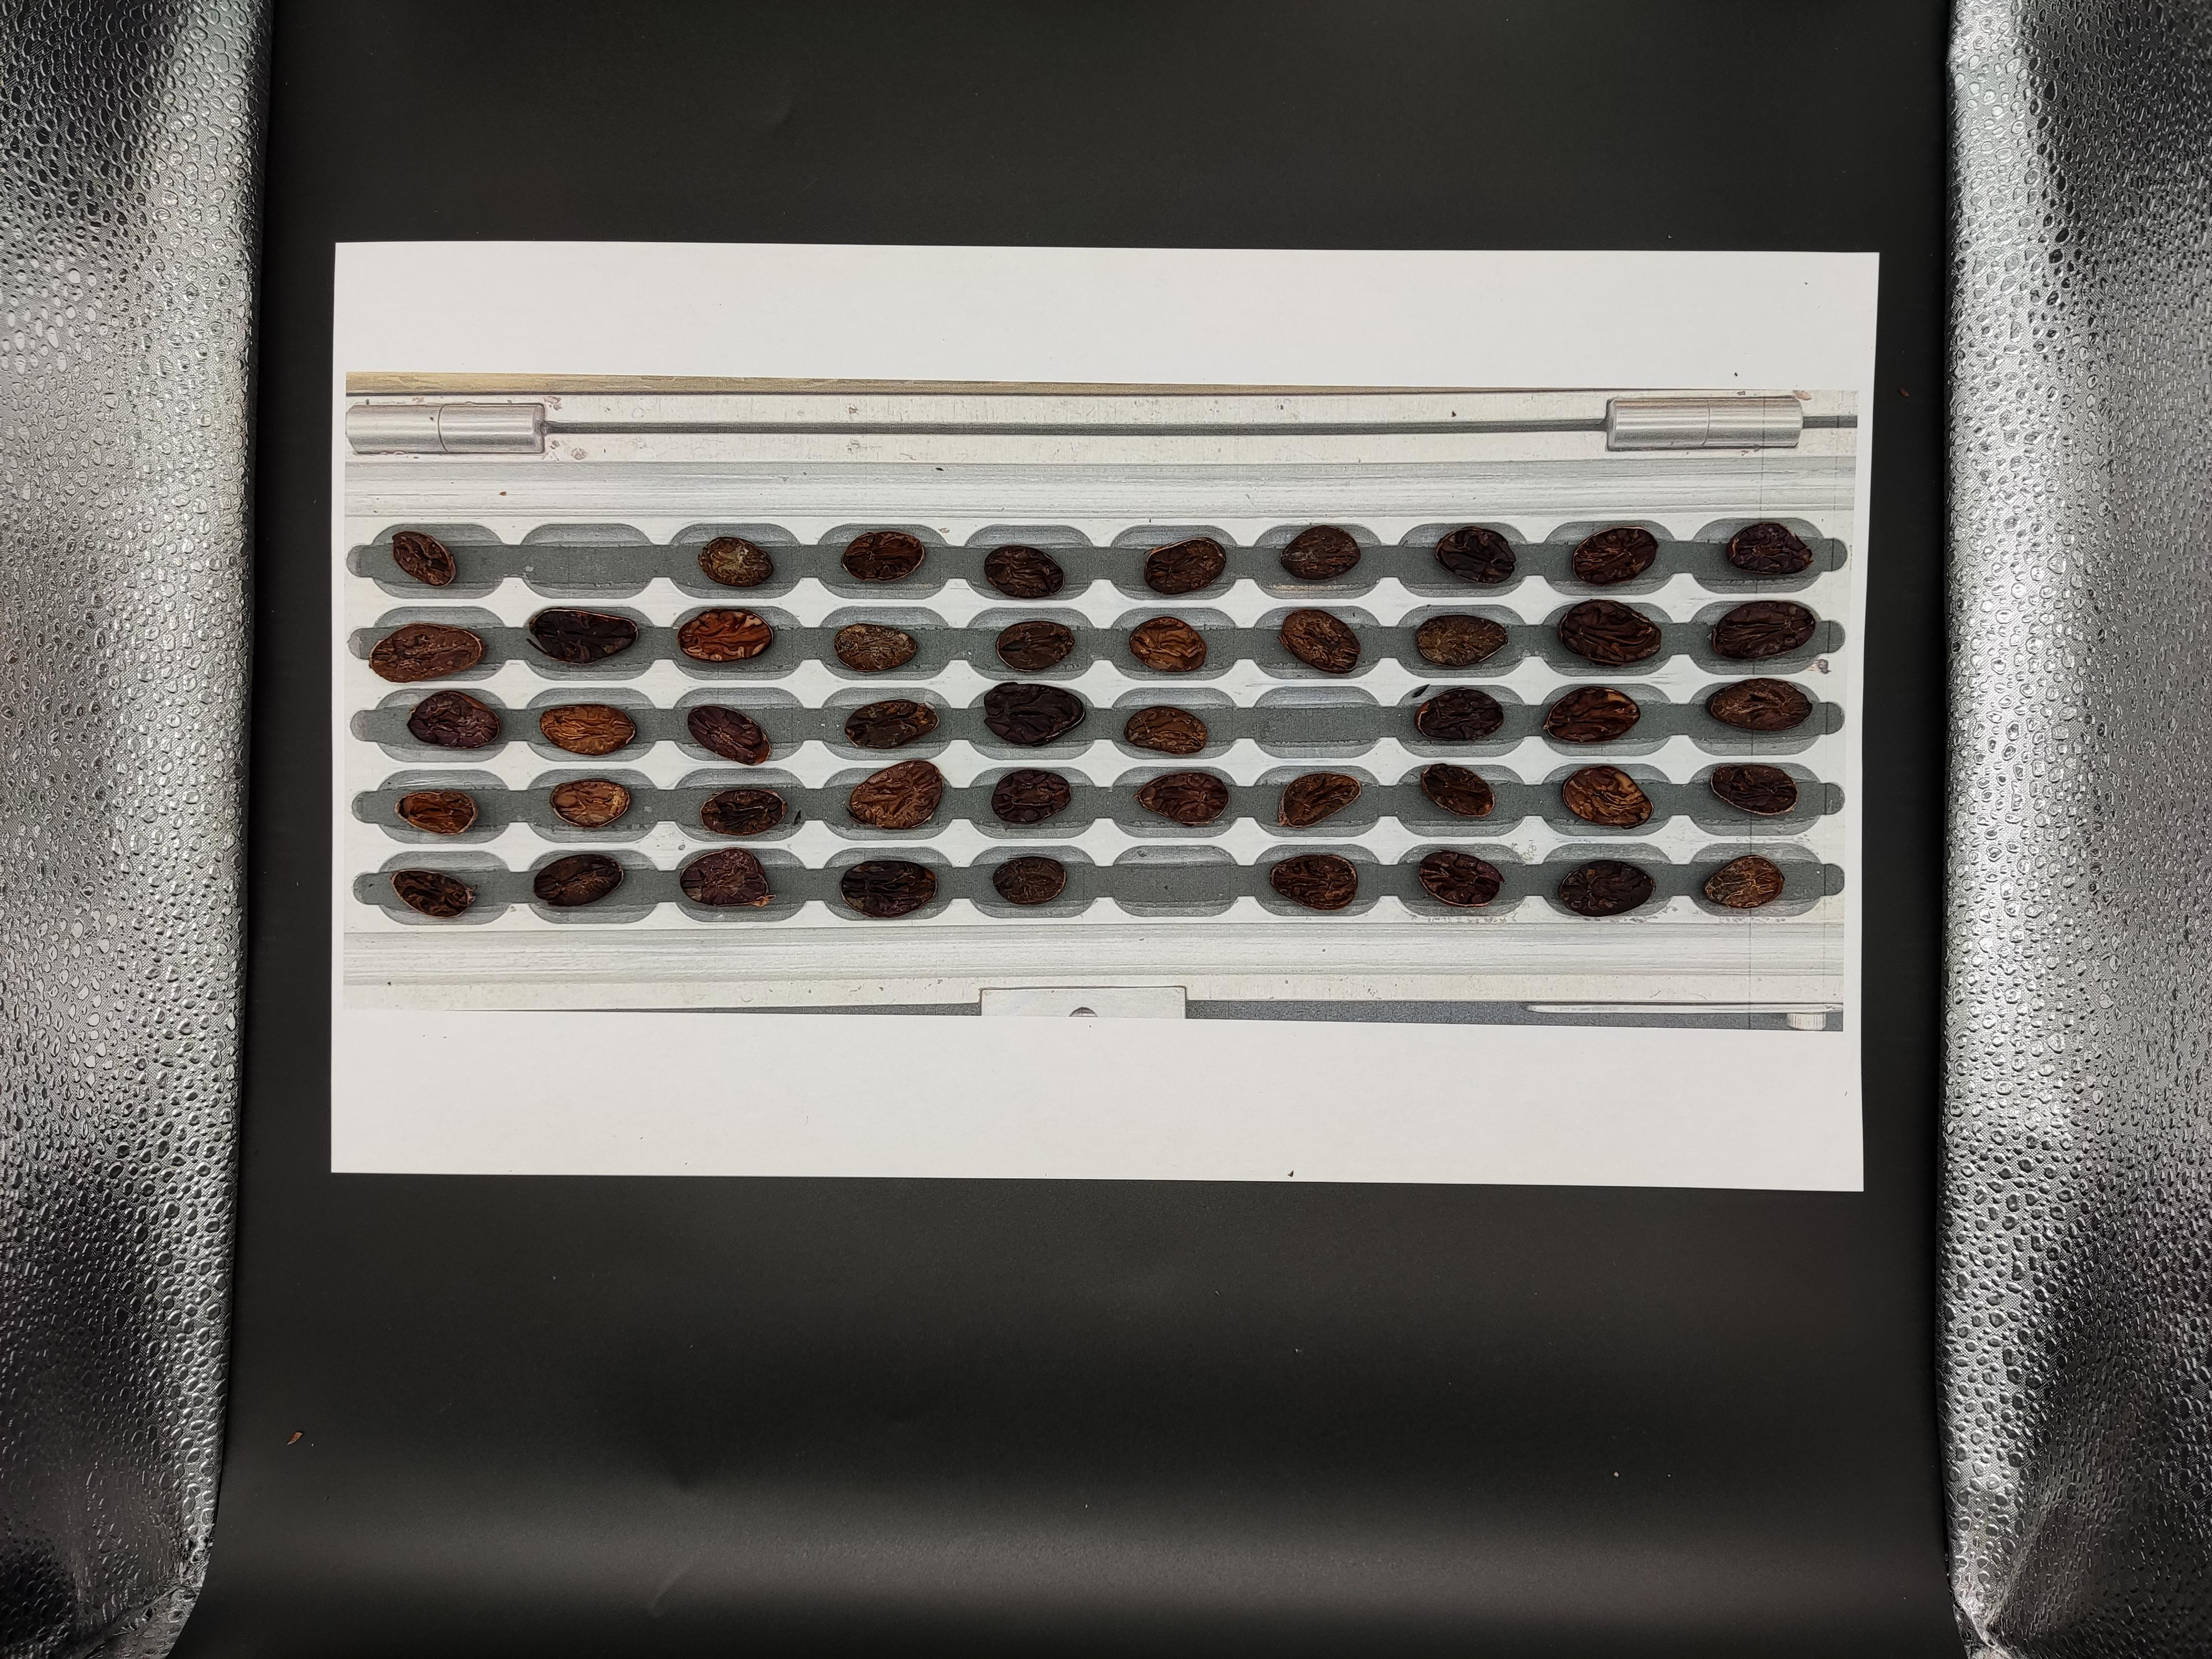Brown - G1: (1876, 1114, 1935, 1154), (1867, 1159, 1923, 1194), (1282, 1213, 1325, 1241)
Brown - G2: (1512, 1197, 1566, 1237), (1876, 1199, 1928, 1237), (1881, 1077, 1933, 1112), (1728, 1244, 1778, 1279), (1660, 1202, 1712, 1236), (1731, 1202, 1780, 1237), (1655, 1122, 1703, 1157), (1804, 1197, 1850, 1232), (1508, 1082, 1557, 1110)
Brown - G3: (1952, 1154, 2013, 1190), (1266, 1131, 1327, 1162), (1733, 1119, 1780, 1157), (1663, 1082, 1710, 1121), (1350, 1169, 1404, 1197), (1588, 1124, 1634, 1157), (1653, 1169, 1702, 1199), (1357, 1206, 1400, 1236), (1278, 1079, 1313, 1112)
Insect-damaged: (1801, 1121, 1857, 1155)
Mouldy: (1949, 1243, 1998, 1281), (1731, 1077, 1778, 1108), (1503, 1127, 1550, 1159), (1585, 1246, 1630, 1277), (1435, 1082, 1475, 1115)
Partly Purple - G1: (1580, 1157, 1637, 1197), (1803, 1243, 1855, 1277)
Partly Purple - G2: (1952, 1112, 2015, 1152), (1350, 1117, 1409, 1157), (1507, 1248, 1566, 1283), (1585, 1199, 1635, 1237), (1801, 1159, 1853, 1194), (1426, 1121, 1477, 1154), (1437, 1215, 1484, 1243)
Partly Purple - G3: (1430, 1169, 1475, 1204)
Total Purple - G2: (1961, 1072, 2010, 1107)
Total Purple - G3: (1426, 1243, 1480, 1279), (1291, 1162, 1336, 1199)
Very Dark Brown - G1: (1280, 1253, 1325, 1284)
Very Dark Brown - G2: (1952, 1195, 2003, 1234), (1810, 1077, 1858, 1112), (1581, 1086, 1627, 1121)
Very Dark Brown - G3: (1874, 1248, 1932, 1283), (1510, 1164, 1561, 1194), (1350, 1246, 1399, 1276)
